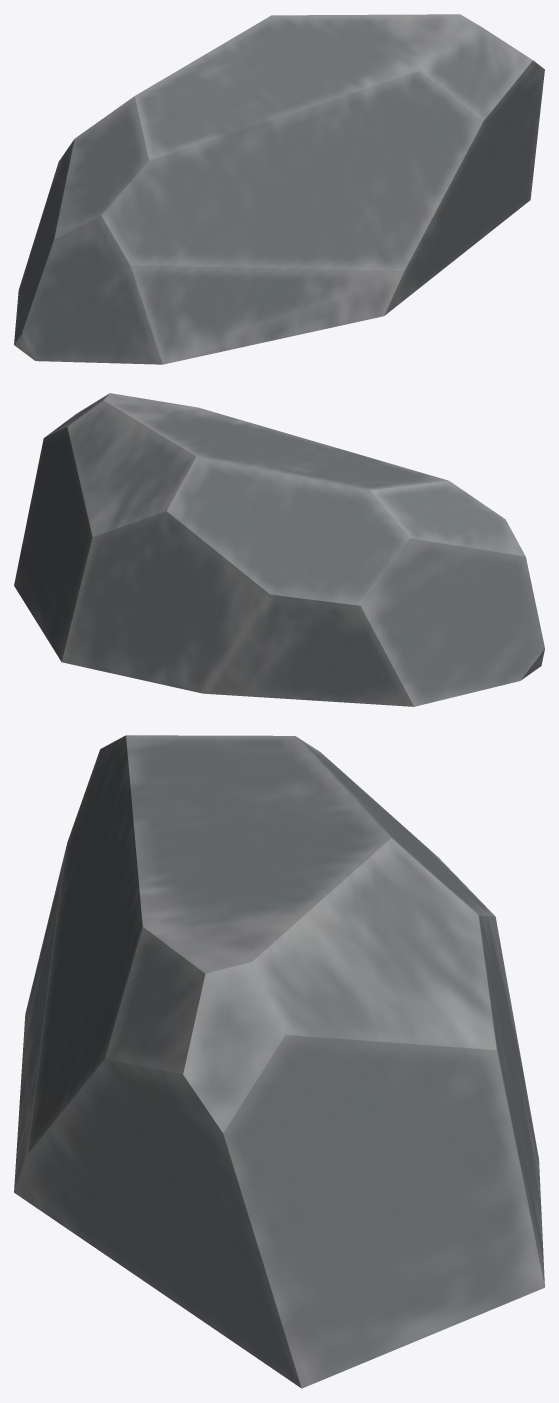
Rendered from rock6.glb.
3 views of the same model, one above another, from view 1: azimuth 30°, elevation 25°; view 2: azimuth 150°, elevation 25°; view 3: azimuth 270°, elevation 25° (orthographic). The views are drawn at different scales.
Parts seen in each view (by area): view 1: rock_006; view 2: rock_006; view 3: rock_006.
Boxes of the visible parts, bbox=[...] form: rock_006: bbox=[14, 14, 544, 364]; rock_006: bbox=[14, 393, 544, 706]; rock_006: bbox=[14, 735, 544, 1388].
Bounding box in the file's own units: 0.255 × 0.098 × 0.129.
1 material, 1 textured.
